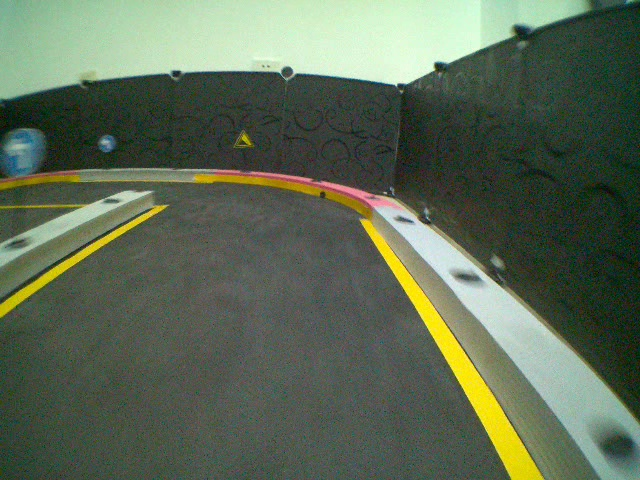fast: (232, 131, 255, 150)
turn: (1, 127, 47, 175), (96, 133, 116, 150)
